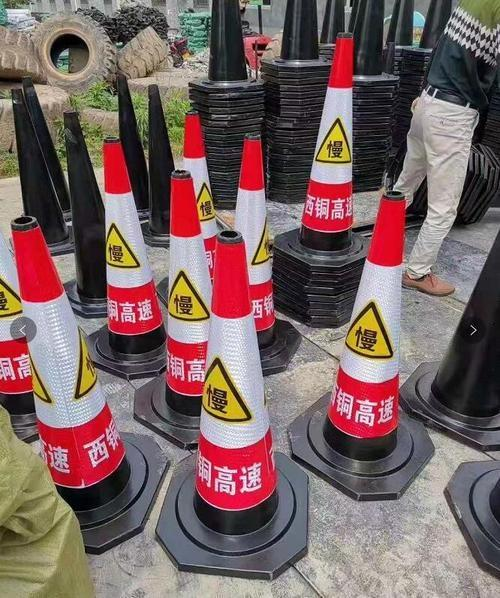cone_barrel: (7, 222, 136, 517), (184, 229, 289, 544), (315, 196, 418, 473), (96, 119, 168, 374), (292, 36, 362, 267), (420, 226, 498, 430), (160, 160, 217, 430), (230, 135, 279, 341), (62, 113, 108, 303), (112, 80, 150, 211), (200, 0, 251, 87), (179, 111, 217, 216), (274, 0, 318, 63)
